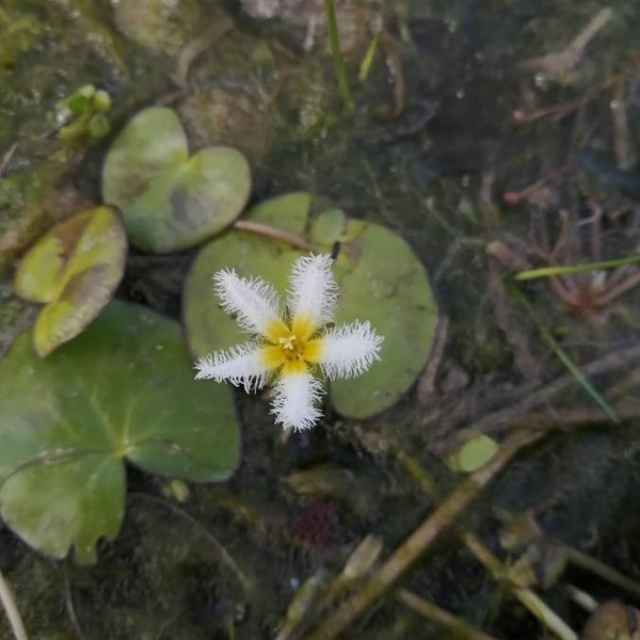obstacle: (23, 129, 414, 479)
